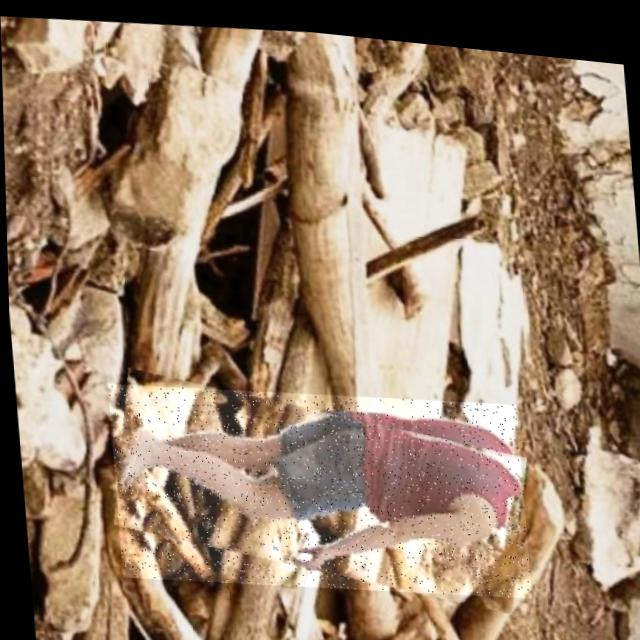Person in Rubble: (104, 360, 529, 609)
